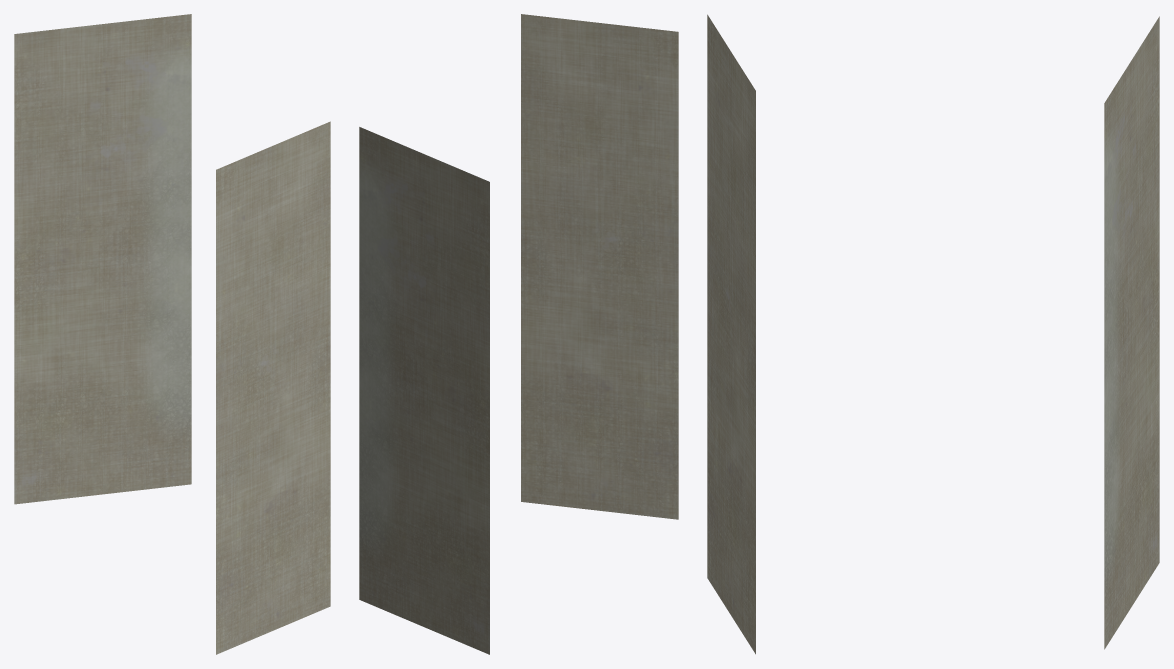
The model's file is TraditionalKoreanHouse_PaperAOpen.fbx.
3 renders of one model, left to right at view 1: azimuth 30°, elevation 25°; view 2: azimuth 150°, elevation 25°; view 3: azimuth 270°, elevation 25°, orthographic. The views are drawn at different scales.
Visible parts, largest first — view 1: TraditionalKoreanHouse_PaperAOpen; view 2: TraditionalKoreanHouse_PaperAOpen; view 3: TraditionalKoreanHouse_PaperAOpen.
Boxes of the visible parts, left/top/right/bottom form: TraditionalKoreanHouse_PaperAOpen: left=14, top=14, right=330, bottom=654; TraditionalKoreanHouse_PaperAOpen: left=359, top=14, right=678, bottom=654; TraditionalKoreanHouse_PaperAOpen: left=707, top=14, right=1159, bottom=654.
Size of the model in its own units: 53.15 by 160 by 117.
